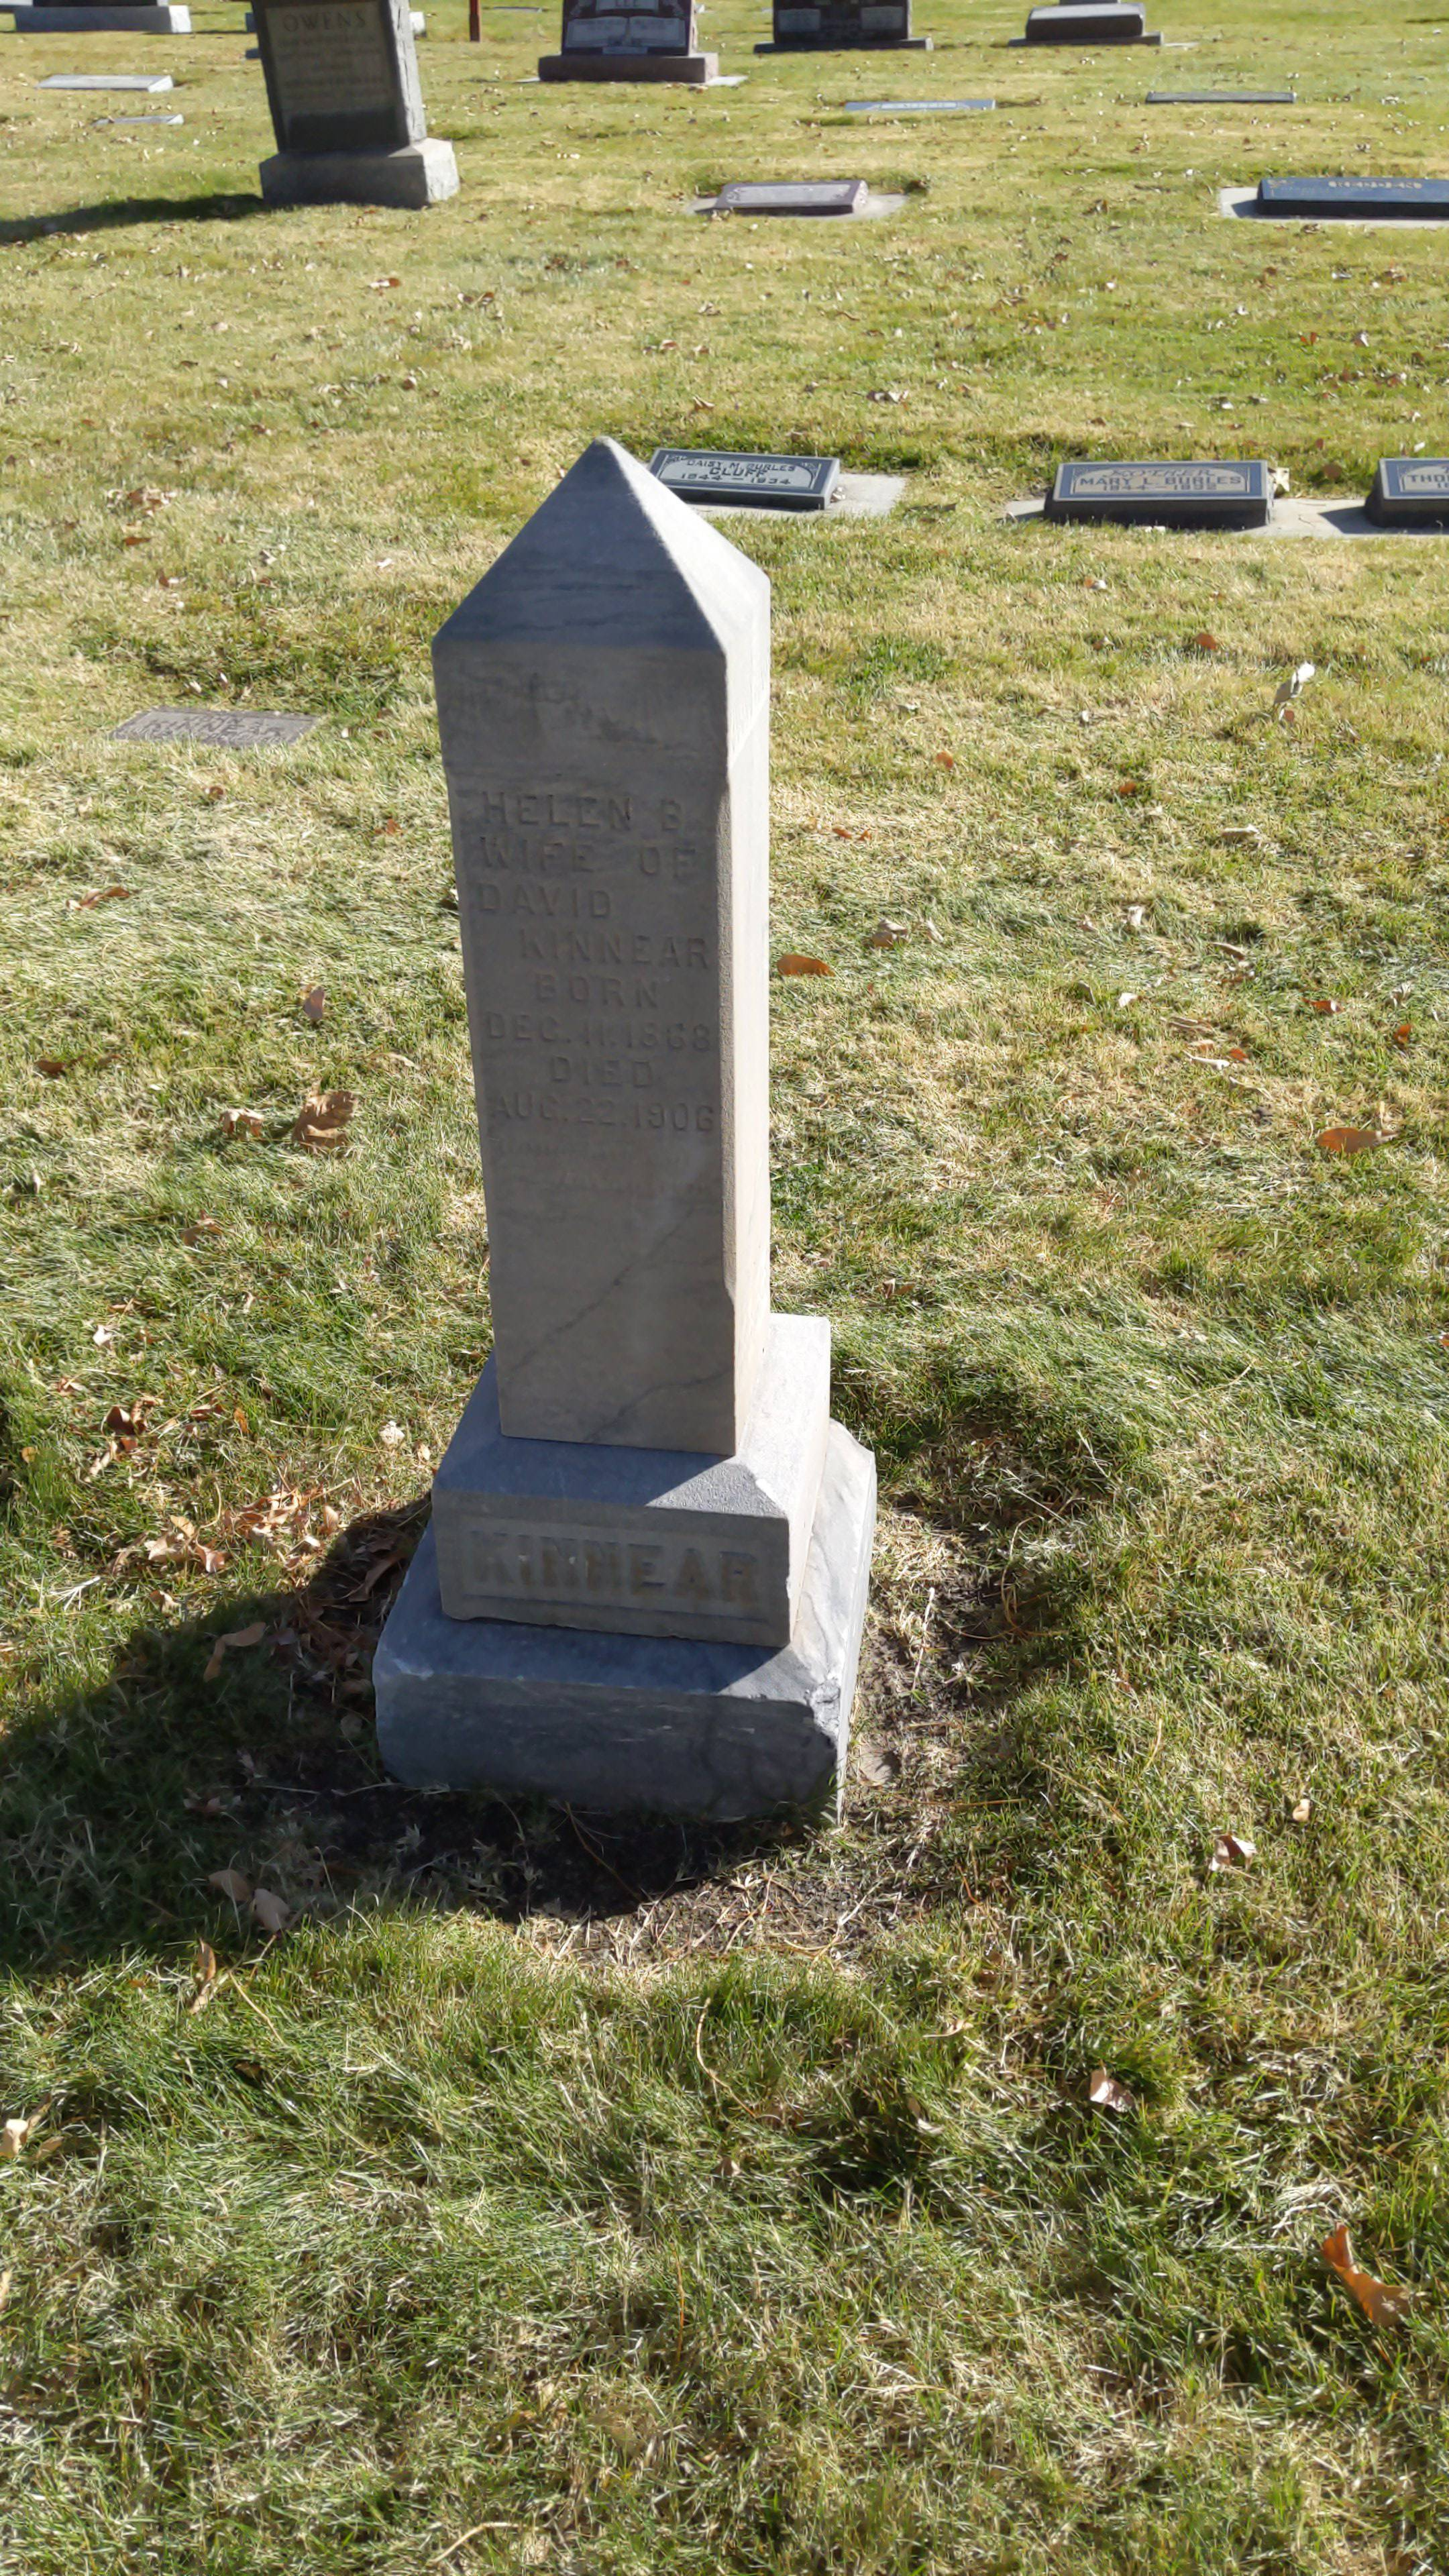obelisk: (426, 446, 828, 1658)
